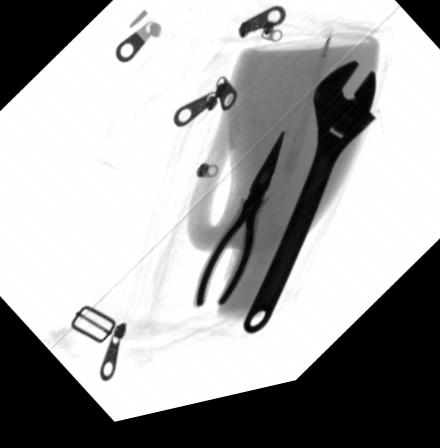Pliers: (195, 141, 283, 316)
Wrench: (242, 74, 375, 347)
